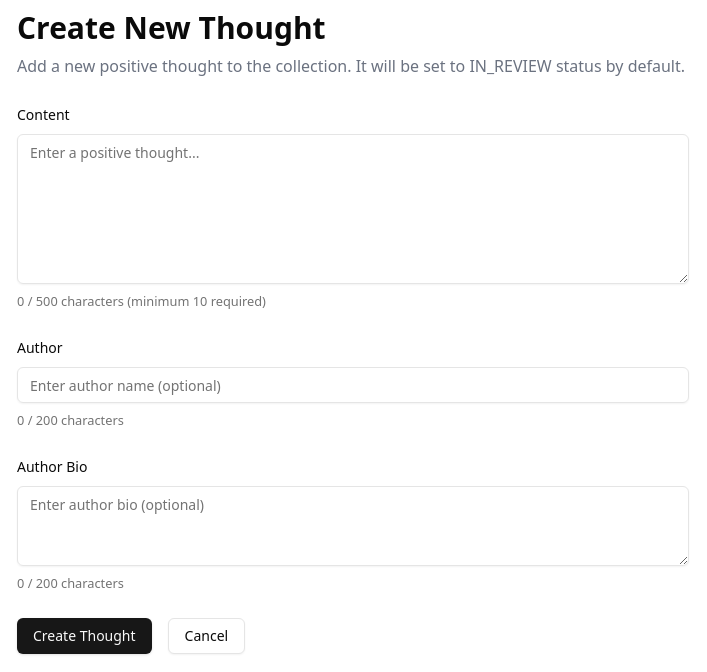
Test case: Thoughts Author Fields › character counter shows correct count for authorBio field
Type "American journalist" into the text box with placeholder "Enter author bio (optional)". click: (353, 526)
box: x1=17 y1=486 x2=689 y2=566
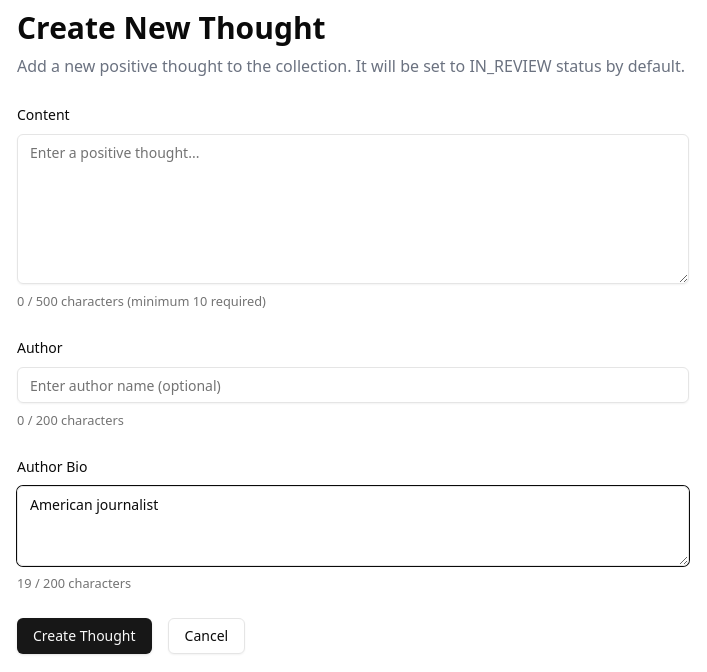
Check: the text "19 / 200 characters" is shown, box x1=17 y1=574 x2=131 y2=592
